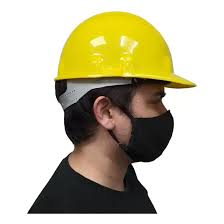Casco de seguridad: (52, 0, 207, 112)
